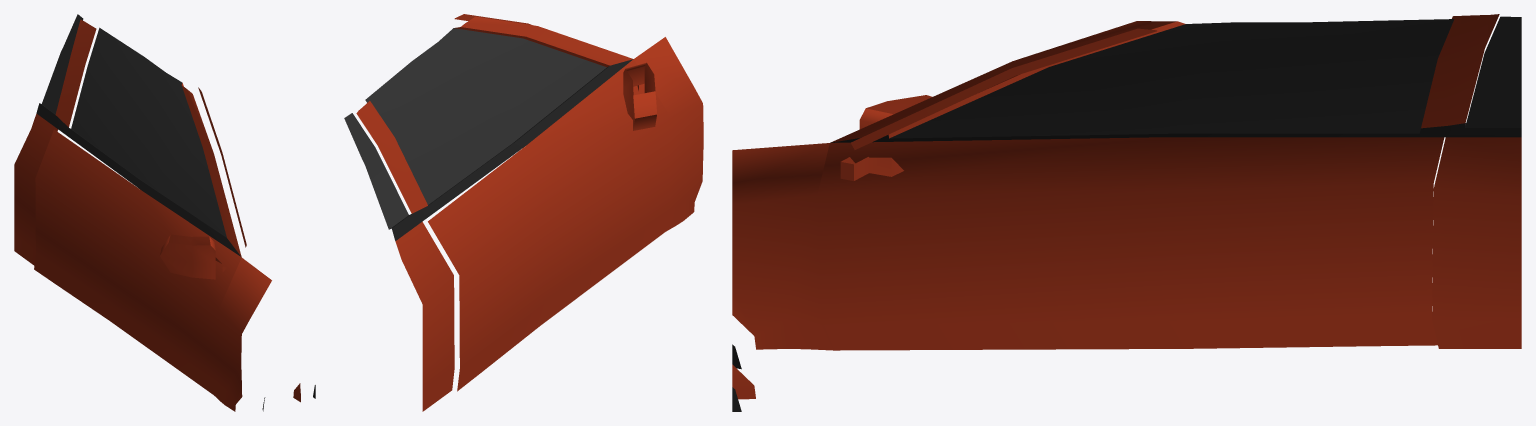
The model's file is sedan-left.glb.
The picture shows the model from 3 angles, left to right: view 1: azimuth 30°, elevation 25°; view 2: azimuth 150°, elevation 25°; view 3: azimuth 270°, elevation 25°; orthographic projection. The views are drawn at different scales.
Bounding box in the file's own units: 0.3253 × 0.6824 × 1.27.
Materials: 1 (1 with a texture image).
